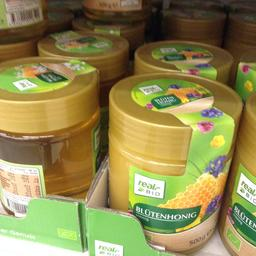honey: (104, 71, 245, 254)
